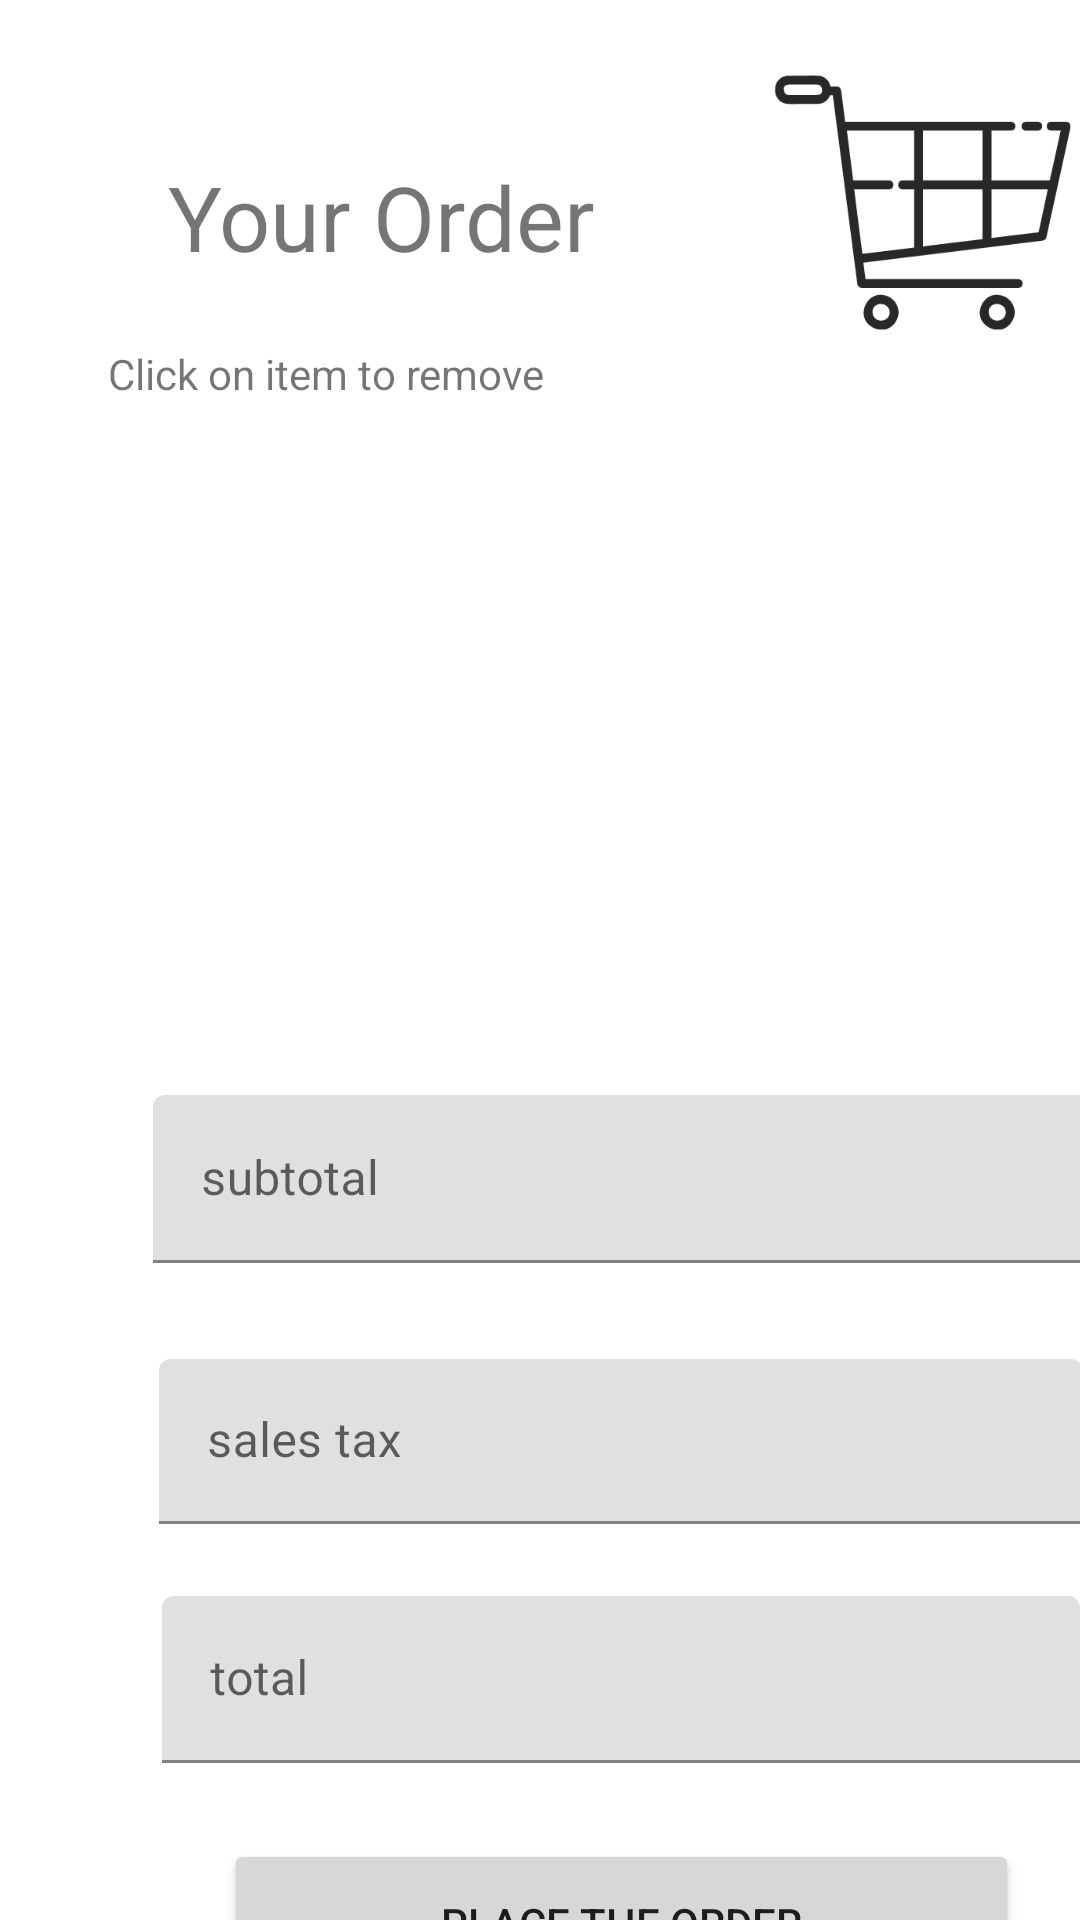

Point at icon controls on the screen. Image size 1080*1920, points as [x,y].
shoppingcart: [923,202]
